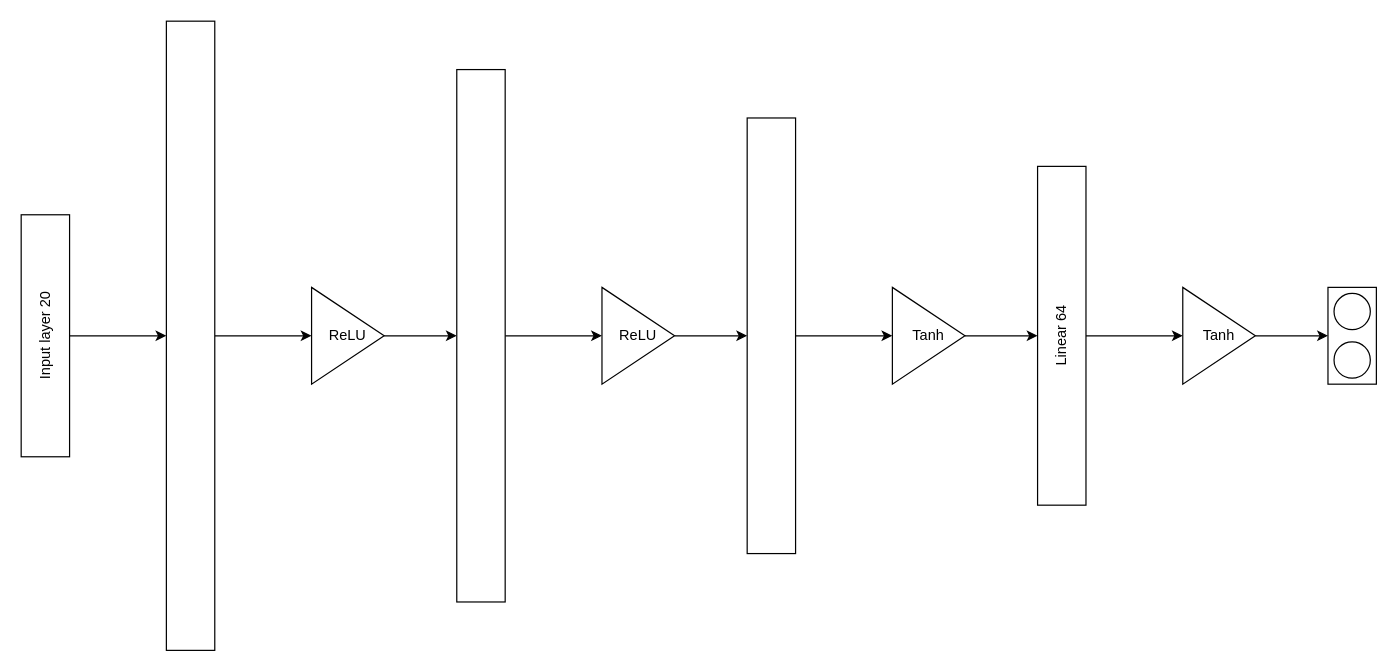
Some shapes in this 1398 by 672 pixel diagram are drawn without their labels. The shapes that lost their labels are listed below. From the top down, each one's box as (x1, y1, x2, y2) in pixels, then its label:
(165, 20, 215, 650): Linear 512
(456, 68, 505, 602): Linear 256
(746, 117, 796, 554): Linear 128
